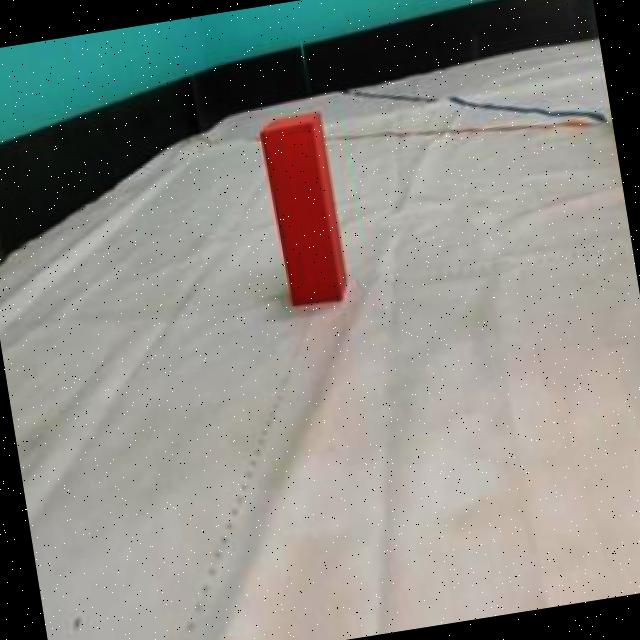redbox: (257, 112, 346, 310)
